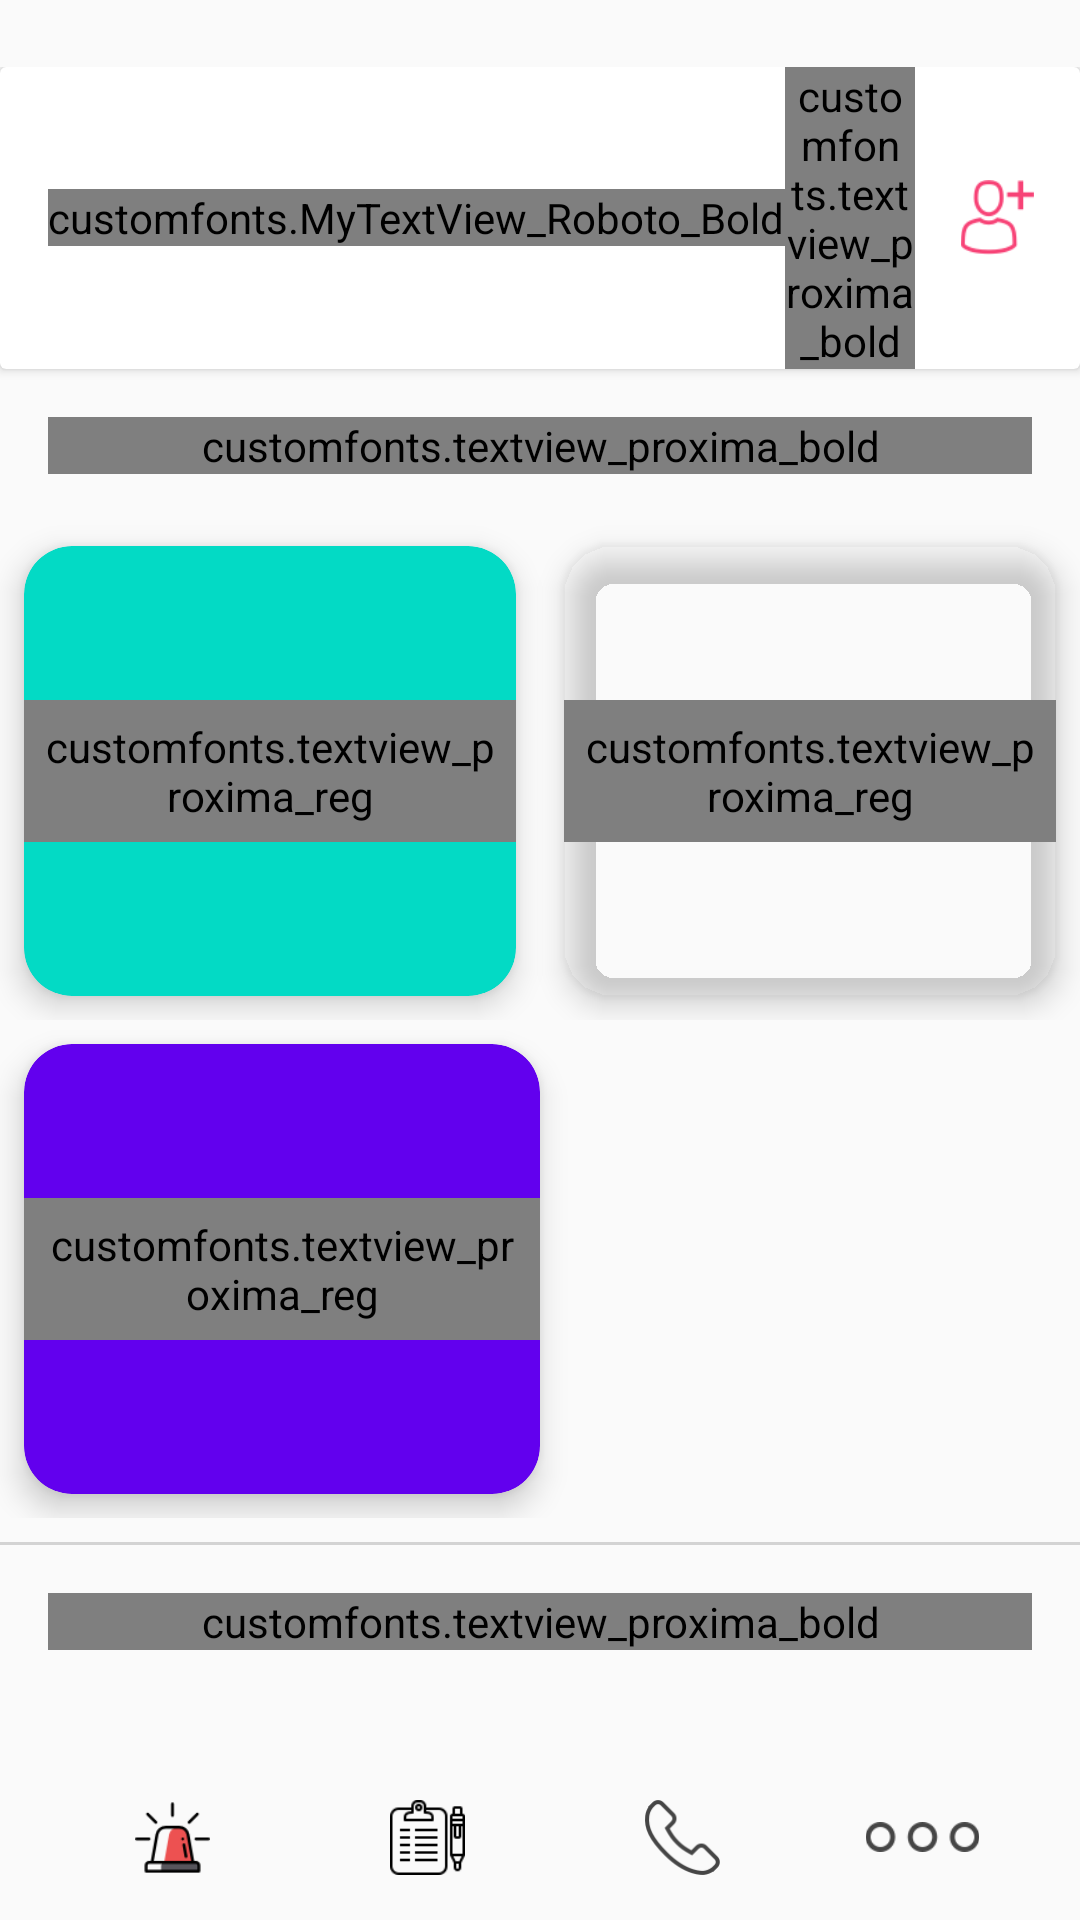

Locate icon controls on the screen. Image size 1080x1920, boxes as (x1, y1, x2, y2).
call: (645, 1800, 720, 1875)
creategroup popup: (961, 180, 1034, 255)
more: (866, 1822, 979, 1852)
records: (390, 1800, 465, 1875)
siren: (135, 1802, 210, 1873)
